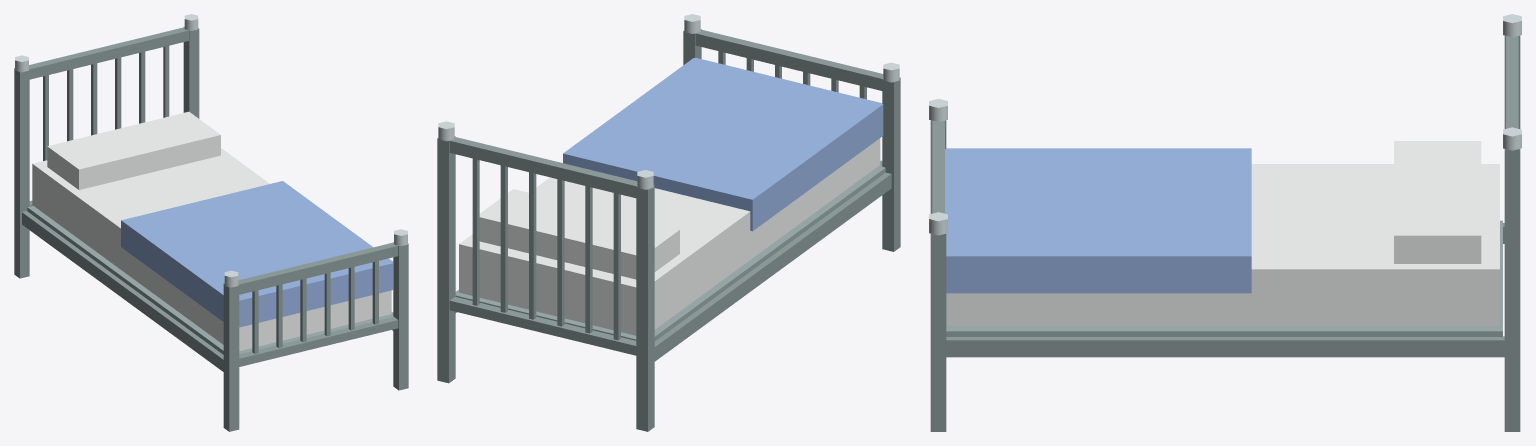
The model's file is bedSingleIron.glb.
The picture shows the model from 3 angles, left to right: view 1: azimuth 30°, elevation 25°; view 2: azimuth 150°, elevation 25°; view 3: azimuth 270°, elevation 25°; orthographic projection. The views are drawn at different scales.
Visible parts, largest first — view 1: bedSingleIron; view 2: bedSingleIron; view 3: bedSingleIron.
Part boxes in pixels (bbox=[...]): bedSingleIron: bbox=[14, 14, 408, 431]; bedSingleIron: bbox=[437, 14, 900, 431]; bedSingleIron: bbox=[929, 14, 1521, 431].
Size of the model in its own units: 0.465 by 0.525 by 0.9503.
